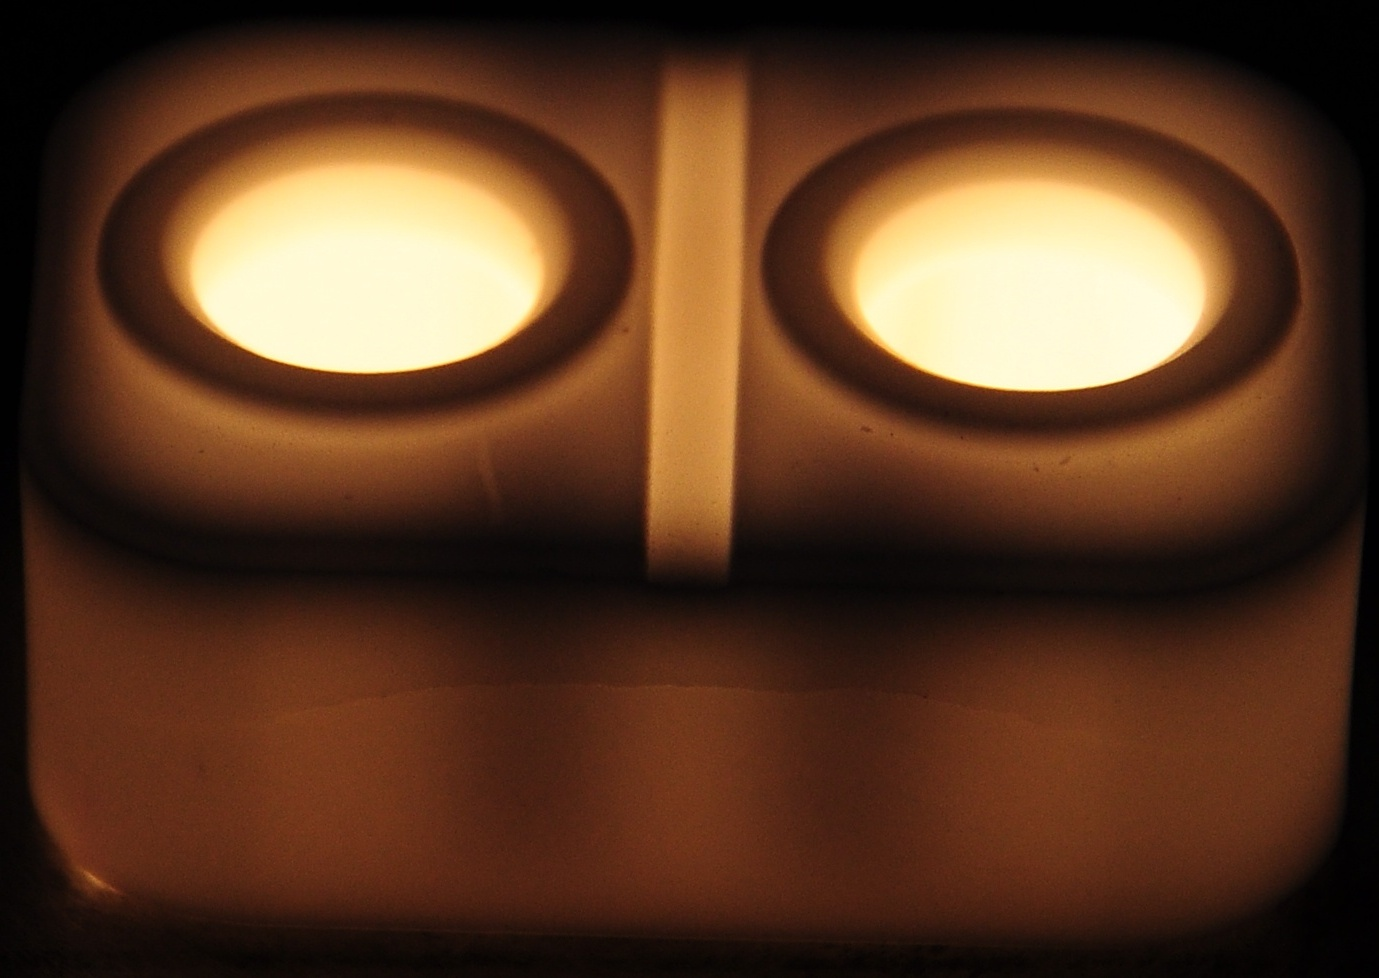flaw: (200, 653, 1198, 779)
scratch: (458, 419, 518, 531)
